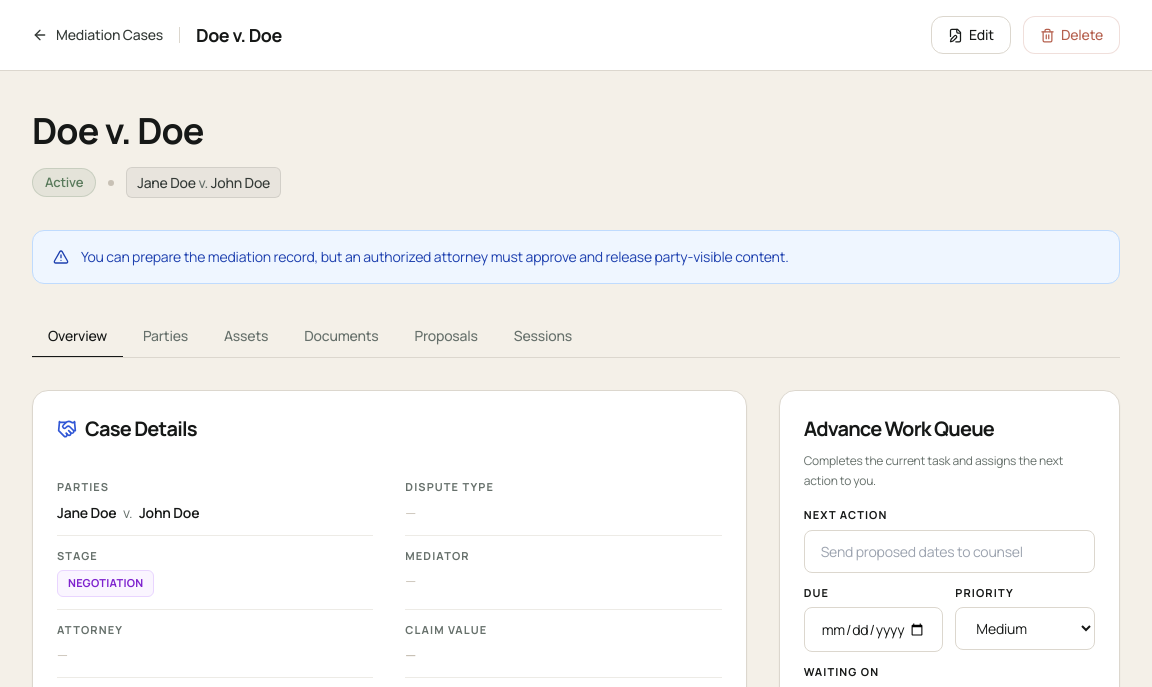
Test: MediationDetailPage review and release controls › lets staff prepare records without exposing attorney approval or release actions
Expected: the text "authorized attorney must approve" is shown, 81,247 -> 788,266
Click the tab "Documents". click: coordinates (341, 337)
box: 288,316 -> 394,358
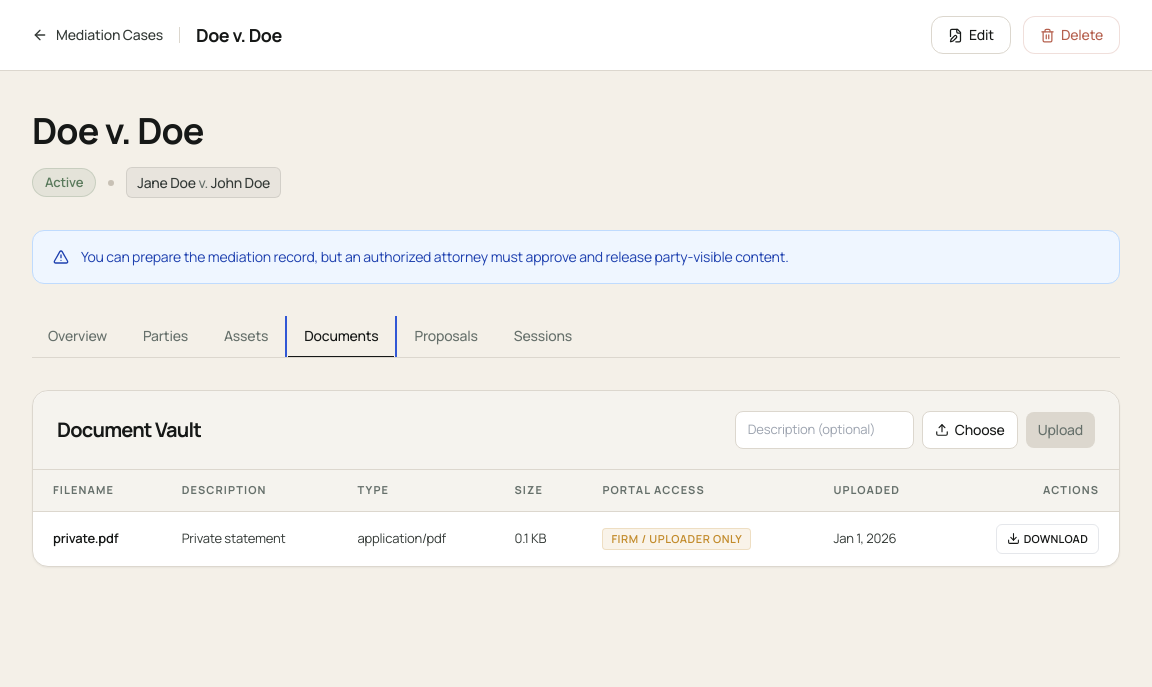
Expected: the text "private.pdf" is shown, 53,529 -> 118,547
Click the tab "Proposals". click: coordinates (446, 337)
box: 398,316 -> 494,358
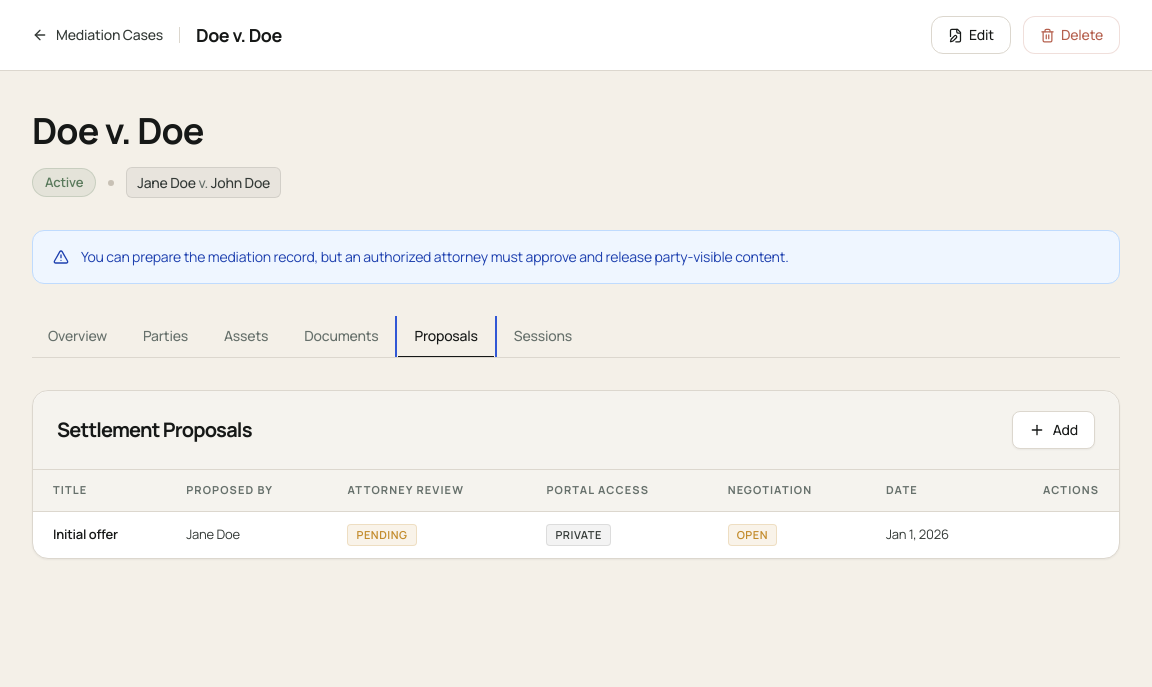
Expected: the text "Initial offer" is shown, 53,525 -> 118,543
